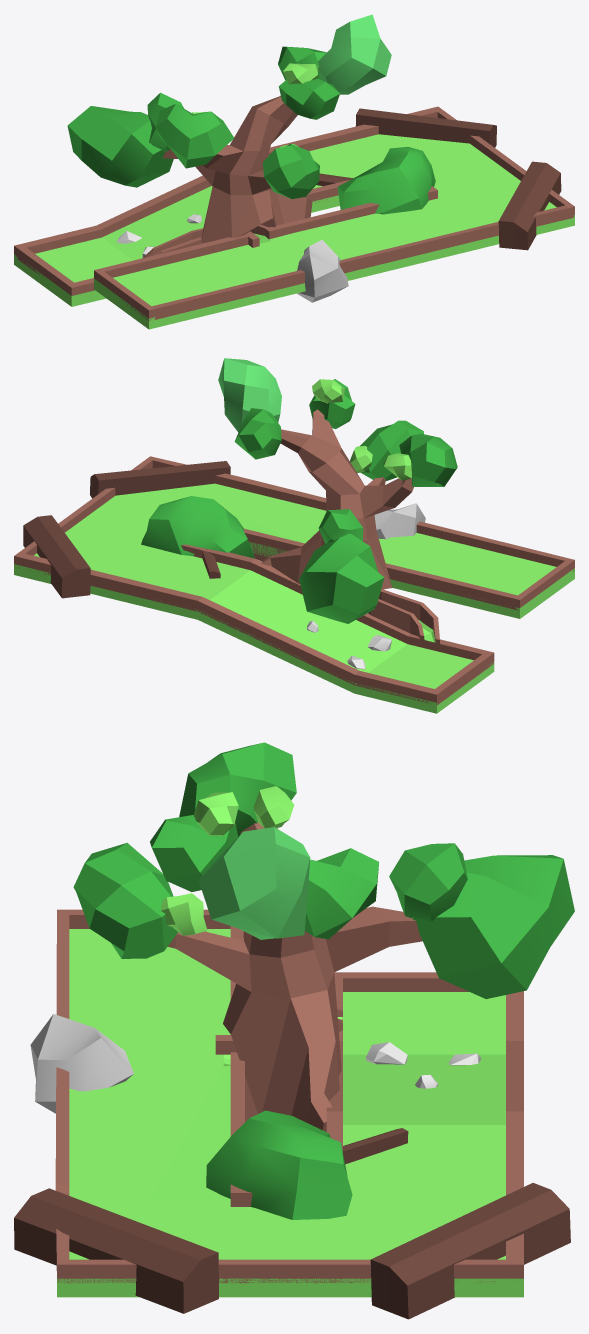
3 renders of one model, top to bottom at view 1: azimuth 30°, elevation 25°; view 2: azimuth 150°, elevation 25°; view 3: azimuth 270°, elevation 25°, orthographic. The views are drawn at different scales.
Visible parts, largest first — view 1: Cube.014, Cube.016, Cylinder.017, rock.224, rock.215, rock.221, rock.220, Cube.017, Cube.018, rock.217, rock.210, rock.223 (+3 smaller); view 2: Cube.014, Cube.016, Cylinder.017, rock.224, rock.215, Cube.018, rock.221, Cube.017, rock.220, rock.218, rock.217, rock.210 (+5 smaller); view 3: Cube.014, Cylinder.017, Cube.016, rock.224, Cube.018, Cube.017, rock.215, rock.221, rock.217, rock.210, rock.220, rock.218 (+7 smaller).
Part boxes in pixels (x1=…): Cube.014: x1=14, y1=134, x2=574, y2=329; Cube.016: x1=14, y1=106, x2=574, y2=320; Cylinder.017: x1=162, y1=96, x2=312, y2=242; rock.224: x1=67, y1=106, x2=173, y2=187; rock.215: x1=337, y1=147, x2=435, y2=214; rock.221: x1=318, y1=14, x2=391, y2=94; rock.220: x1=155, y1=104, x2=234, y2=168; Cube.017: x1=498, y1=161, x2=561, y2=250; Cube.018: x1=355, y1=108, x2=496, y2=147; rock.217: x1=262, y1=144, x2=319, y2=199; rock.210: x1=297, y1=240, x2=348, y2=302; rock.223: x1=278, y1=79, x2=339, y2=119; Cube.014: x1=14, y1=483, x2=574, y2=713; Cube.016: x1=14, y1=456, x2=574, y2=705; Cylinder.017: x1=261, y1=409, x2=413, y2=589; rock.224: x1=299, y1=533, x2=384, y2=623; rock.215: x1=141, y1=496, x2=254, y2=558; Cube.018: x1=23, y1=515, x2=90, y2=598; rock.221: x1=218, y1=358, x2=281, y2=432; Cube.017: x1=90, y1=461, x2=230, y2=498; rock.220: x1=399, y1=433, x2=457, y2=486; rock.218: x1=234, y1=408, x2=281, y2=459; rock.217: x1=360, y1=420, x2=423, y2=480; rock.210: x1=374, y1=503, x2=425, y2=539; Cube.014: x1=57, y1=929, x2=523, y2=1297; Cylinder.017: x1=168, y1=822, x2=422, y2=1131; Cube.016: x1=55, y1=909, x2=523, y2=1283; rock.224: x1=412, y1=855, x2=574, y2=998; Cube.018: x1=370, y1=1183, x2=570, y2=1319; Cube.017: x1=14, y1=1188, x2=218, y2=1313; rock.215: x1=206, y1=1110, x2=352, y2=1219; rock.221: x1=198, y1=827, x2=310, y2=939; rock.217: x1=73, y1=842, x2=177, y2=958; rock.210: x1=30, y1=1014, x2=133, y2=1113; rock.220: x1=179, y1=742, x2=296, y2=836; rock.218: x1=305, y1=848, x2=379, y2=939.
Bounding box in the file's own units: 1106 × 568 × 698.
